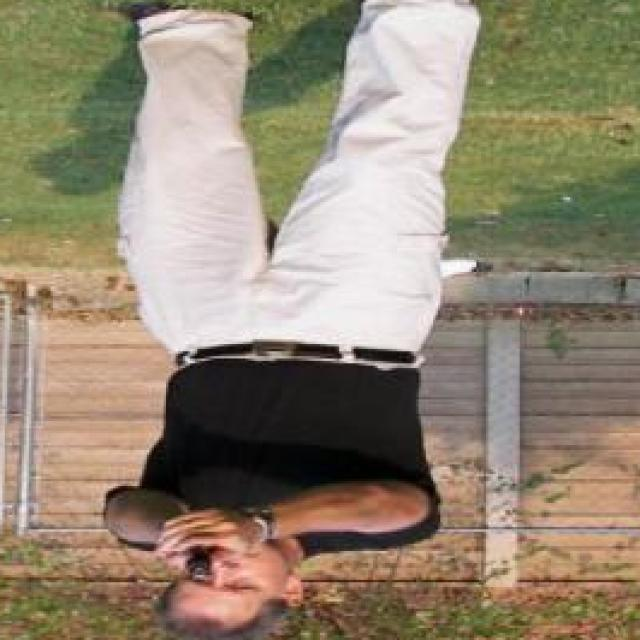pistol: (183, 545, 219, 580)
